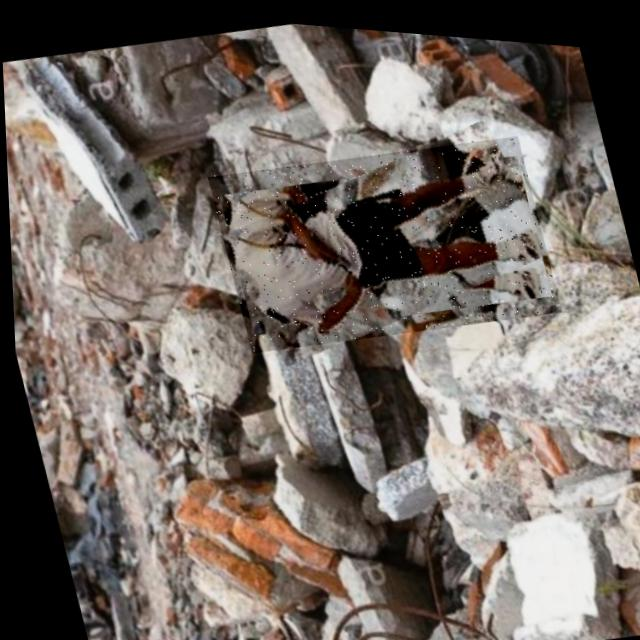Person in Rubble: (203, 104, 562, 367)
